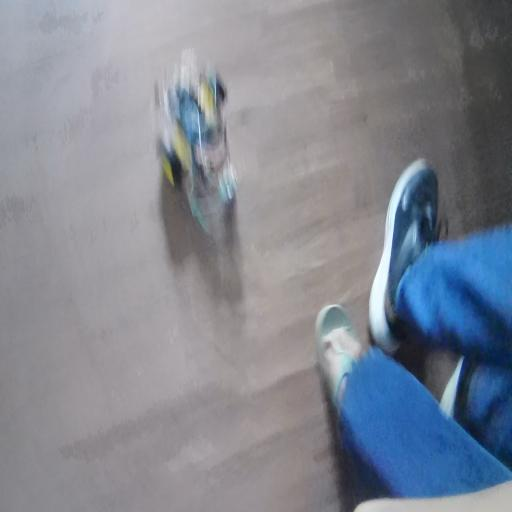car: (147, 89, 272, 249)
